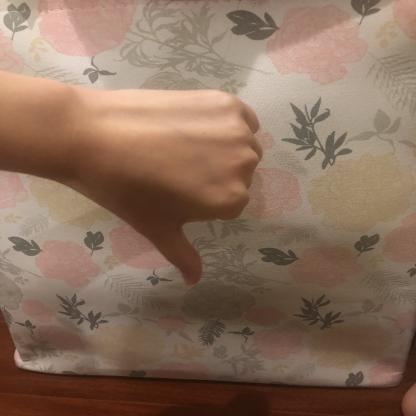Thumbs-Down: (80, 88, 260, 290)
